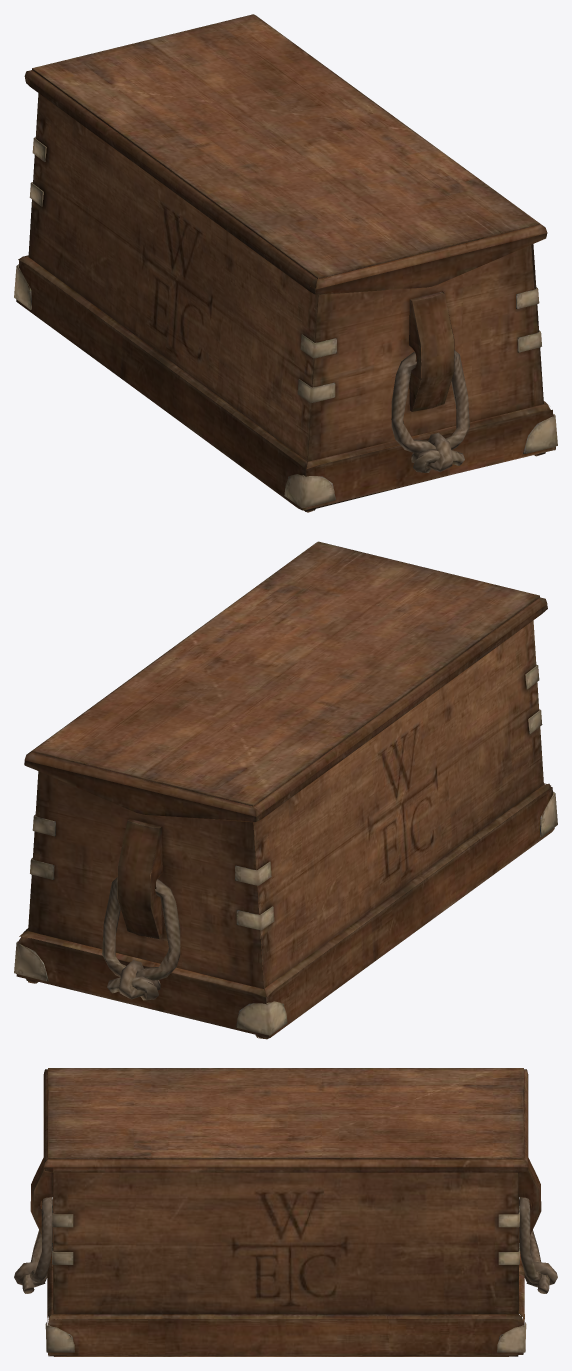
Rendered from wooden_crate_02.glb.
The picture shows the model from 3 angles, top to bottom: view 1: azimuth 30°, elevation 25°; view 2: azimuth 150°, elevation 25°; view 3: azimuth 270°, elevation 25°; orthographic projection. The views are drawn at different scales.
Visible parts, largest first — view 1: lod0; view 2: lod0; view 3: lod0.
Part boxes in pixels (bbox=[...]): lod0: bbox=[14, 14, 557, 512]; lod0: bbox=[14, 541, 557, 1039]; lod0: bbox=[14, 1068, 557, 1356].
Size of what is drawn, in the model's own units: 0.5291 by 0.4642 by 1.17.
1 material, 1 textured.
